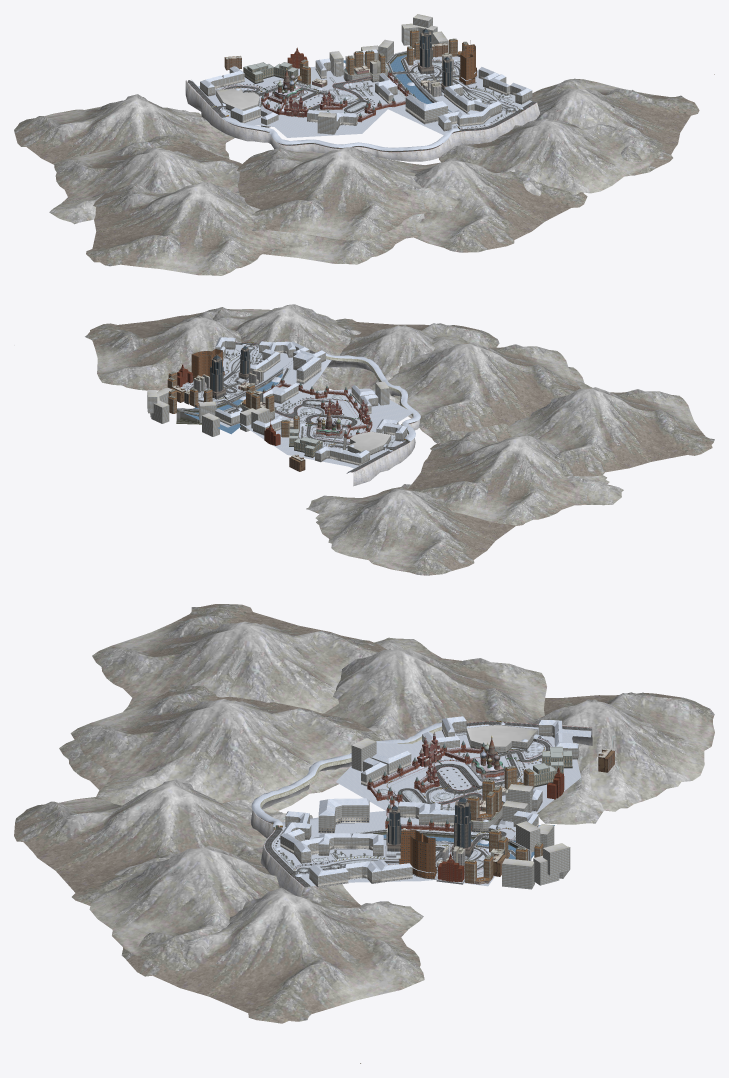
Rendered from sports_car_racing_moscow.glb.
The picture shows the model from 3 angles, top to bottom: view 1: azimuth 30°, elevation 25°; view 2: azimuth 150°, elevation 25°; view 3: azimuth 270°, elevation 25°; orthographic projection. The views are drawn at different scales.
Parts seen in each view (by area): view 1: shan_1 (×8), suidao_1_5, dibiao_4_1, suidao_1_2, peilou_7_2_1, peilou_3_4, dibiao_7_2, peilou_4, shui_1, dibiao_2_4, suidao_1_1, peilou_8_2; view 2: shan_1 (×8), dibiao_4_1, suidao_1_5, suidao_1_2, peilou_7_2_1, peilou_3_4, dibiao_7_2, peilou_4; view 3: shan_1 (×8), dibiao_4_1, suidao_1_5, peilou_3_4, peilou_7_2_1, suidao_1_2, dibiao_7_2, peilou_8_2, peilou_4, suidao_1_1.
Boxes of the visible parts, x1=… form: shan_1 (×8): x1=14, y1=78, x2=699, y2=275; suidao_1_5: x1=185, y1=81, x2=539, y2=161; dibiao_4_1: x1=198, y1=66, x2=387, y2=137; suidao_1_2: x1=222, y1=116, x2=459, y2=150; peilou_7_2_1: x1=215, y1=88, x2=259, y2=110; peilou_3_4: x1=459, y1=44, x2=476, y2=84; dibiao_7_2: x1=388, y1=105, x2=501, y2=134; peilou_4: x1=418, y1=28, x2=433, y2=74; shui_1: x1=343, y1=55, x2=451, y2=111; dibiao_2_4: x1=405, y1=56, x2=482, y2=98; suidao_1_1: x1=188, y1=80, x2=535, y2=131; peilou_8_2: x1=317, y1=112, x2=336, y2=134; shan_1 (×8): x1=85, y1=304, x2=714, y2=575; dibiao_4_1: x1=240, y1=388, x2=412, y2=468; suidao_1_5: x1=327, y1=359, x2=419, y2=486; suidao_1_2: x1=326, y1=353, x2=420, y2=441; peilou_7_2_1: x1=347, y1=431, x2=391, y2=453; peilou_3_4: x1=191, y1=349, x2=224, y2=380; dibiao_7_2: x1=280, y1=353, x2=331, y2=390; peilou_4: x1=210, y1=354, x2=225, y2=399; shan_1 (×8): x1=14, y1=604, x2=714, y2=1023; dibiao_4_1: x1=336, y1=730, x2=581, y2=822; suidao_1_5: x1=251, y1=721, x2=592, y2=896; peilou_3_4: x1=399, y1=830, x2=436, y2=878; peilou_7_2_1: x1=466, y1=725, x2=538, y2=751; suidao_1_2: x1=251, y1=722, x2=441, y2=830; dibiao_7_2: x1=272, y1=811, x2=385, y2=858; peilou_8_2: x1=502, y1=858, x2=534, y2=889; peilou_4: x1=451, y1=796, x2=473, y2=857; suidao_1_1: x1=265, y1=721, x2=591, y2=887.
Size of the model in its own units: 33.81 by 4.3 by 22.91.
47 materials, 47 textured.
